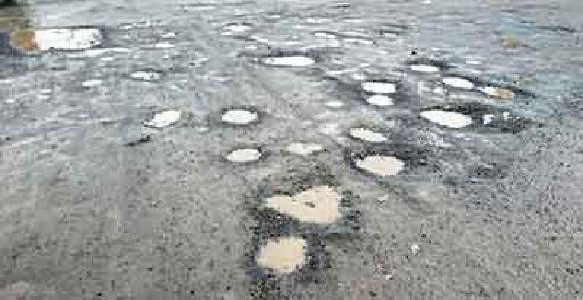pothole: (256, 180, 348, 224), (9, 23, 105, 53), (249, 231, 312, 274), (349, 148, 412, 177), (417, 102, 474, 127), (253, 50, 318, 68), (476, 81, 534, 101), (346, 122, 392, 143), (146, 105, 184, 128), (218, 105, 259, 125), (222, 145, 264, 162), (283, 138, 324, 155), (406, 55, 445, 72), (441, 71, 475, 88), (358, 78, 399, 92), (127, 67, 162, 81), (364, 93, 397, 107)
